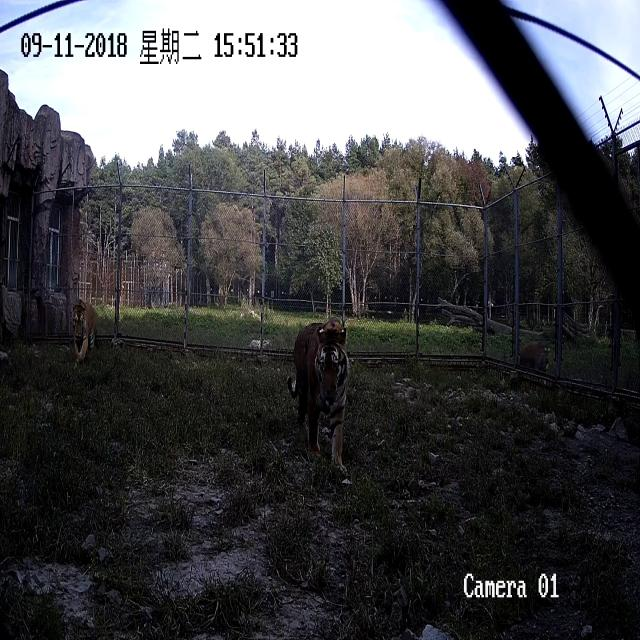Tiger: (284, 308, 370, 477), (70, 286, 102, 372), (520, 339, 550, 382)
